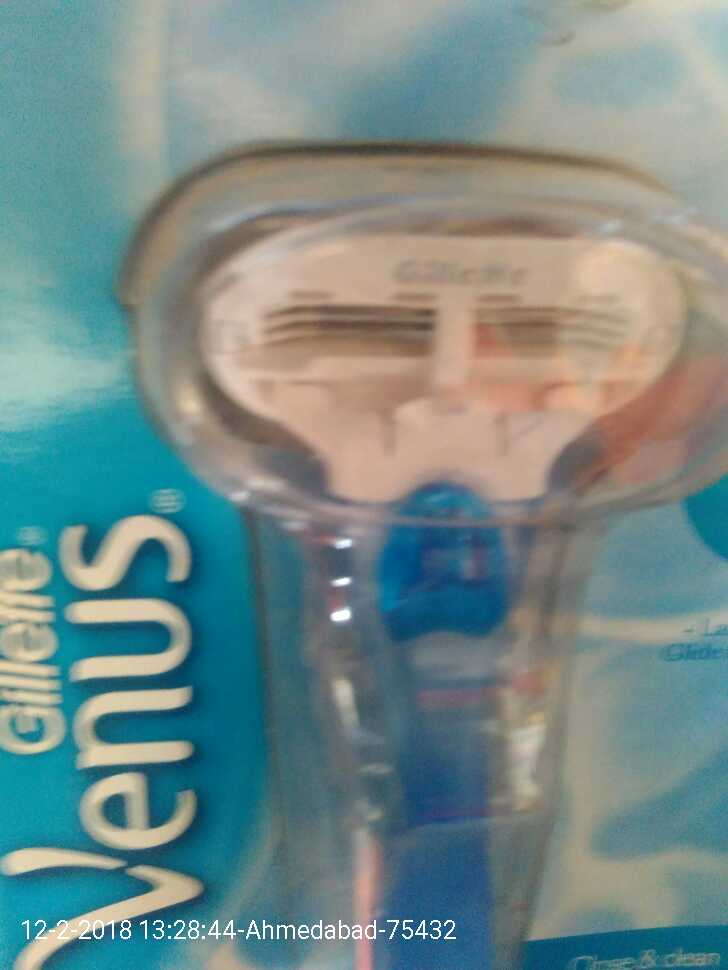reject: (79, 216, 250, 481)
